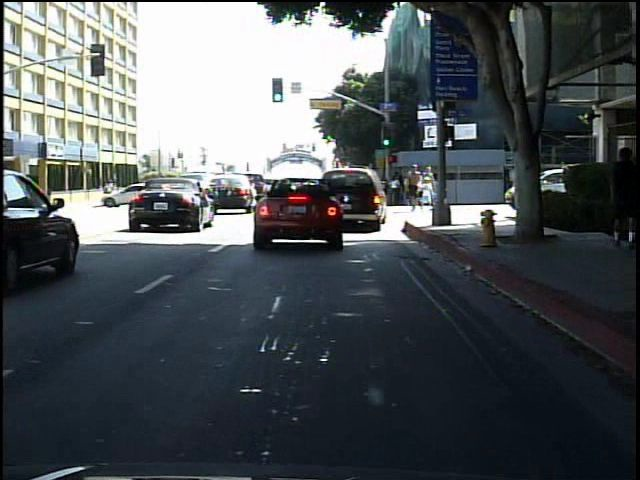person: (603, 138, 634, 251), (403, 161, 424, 215), (418, 176, 434, 209), (101, 178, 117, 196)
